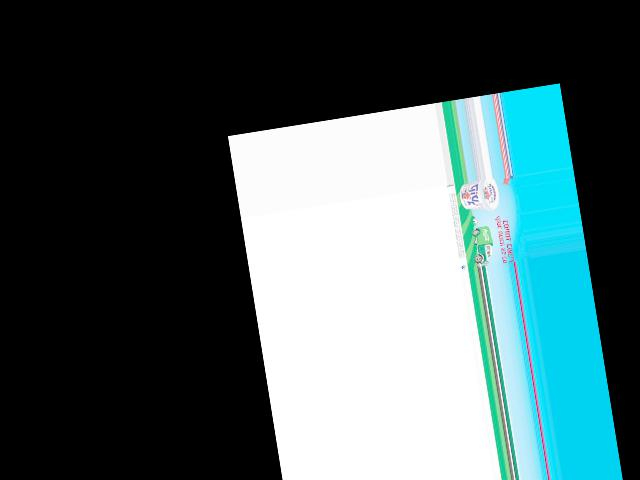cotage: (457, 178, 501, 215)
